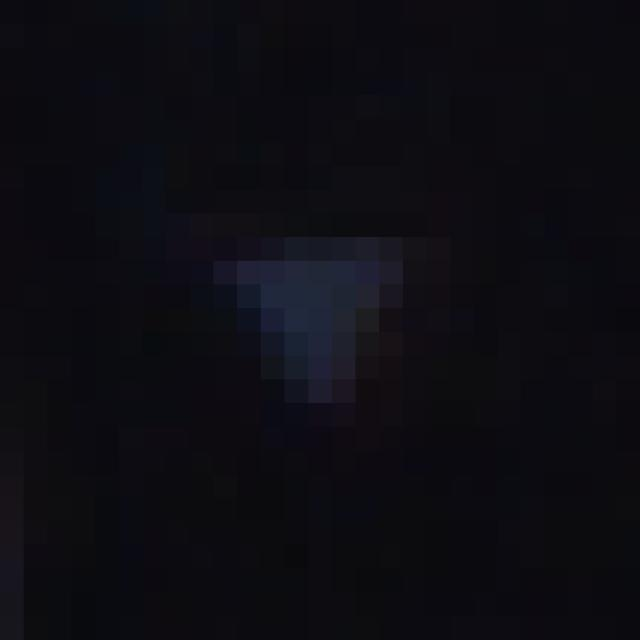Give Way: (120, 120, 523, 523)
